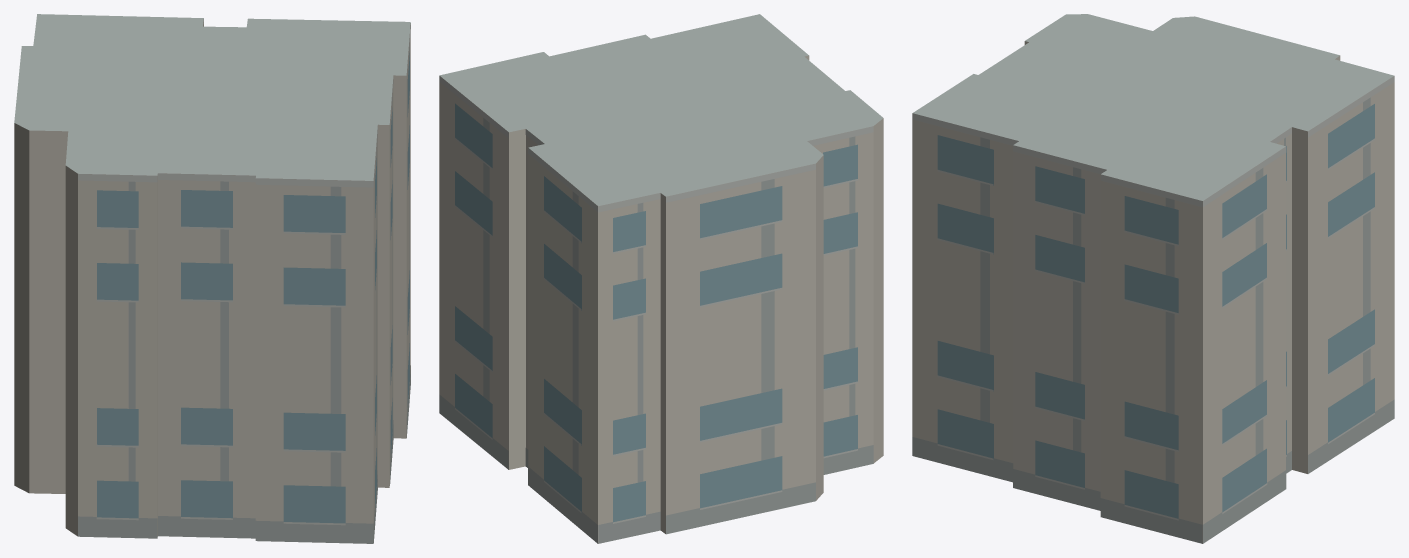
File: survey-upis-32544596.glb
The picture shows the model from 3 angles, left to right: view 1: azimuth 30°, elevation 25°; view 2: azimuth 150°, elevation 25°; view 3: azimuth 270°, elevation 25°; orthographic projection. The views are drawn at different scales.
Parts seen in each view (by area): view 1: survey-upis-32544596.tmp; view 2: survey-upis-32544596.tmp; view 3: survey-upis-32544596.tmp.
Boxes of the visible parts, x1,y1,x2,y2 form: survey-upis-32544596.tmp: (14, 14, 410, 543); survey-upis-32544596.tmp: (439, 14, 883, 543); survey-upis-32544596.tmp: (912, 14, 1394, 543).
Size of the model in its own units: 15.58 by 13.3 by 16.96.
